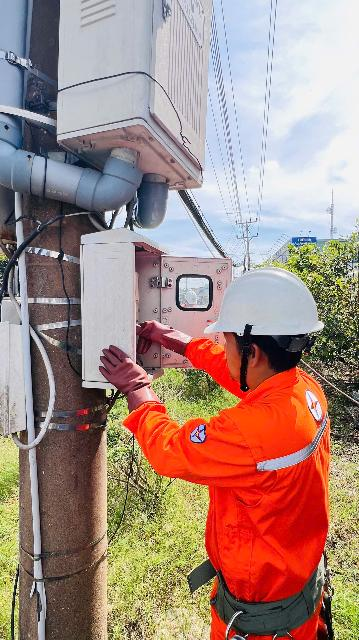gloves: (85, 342, 169, 426), (133, 309, 202, 359)
harness: (184, 546, 343, 632)
helmet: (206, 272, 334, 351)
